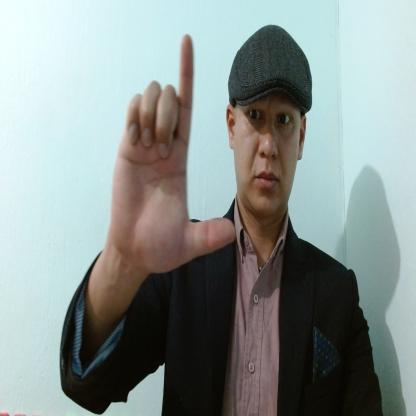L: (112, 34, 237, 273)
